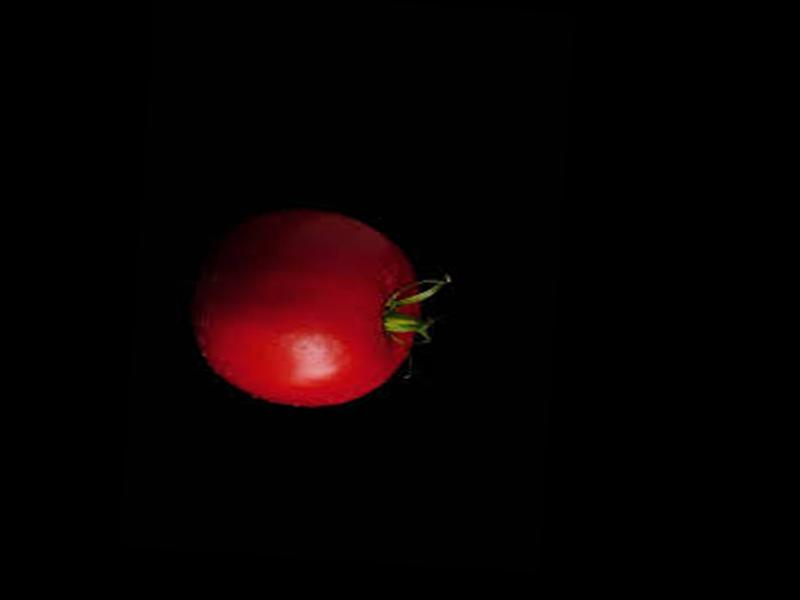Tomato: (193, 203, 425, 412)
